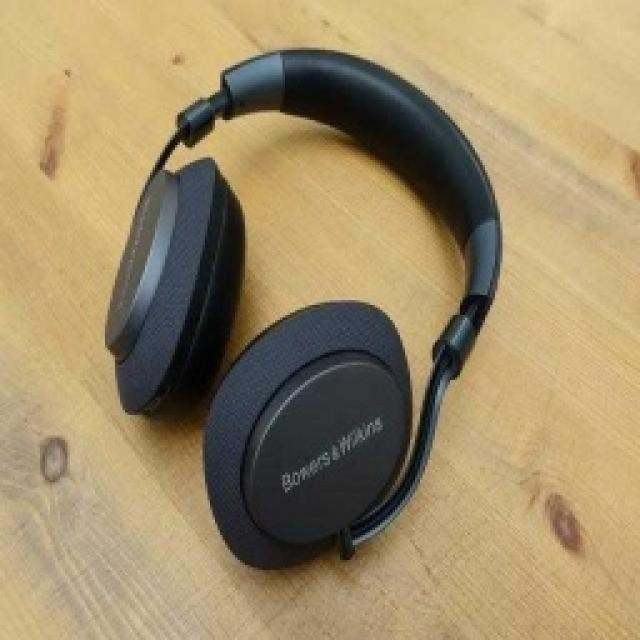headphones: (102, 45, 502, 570)
